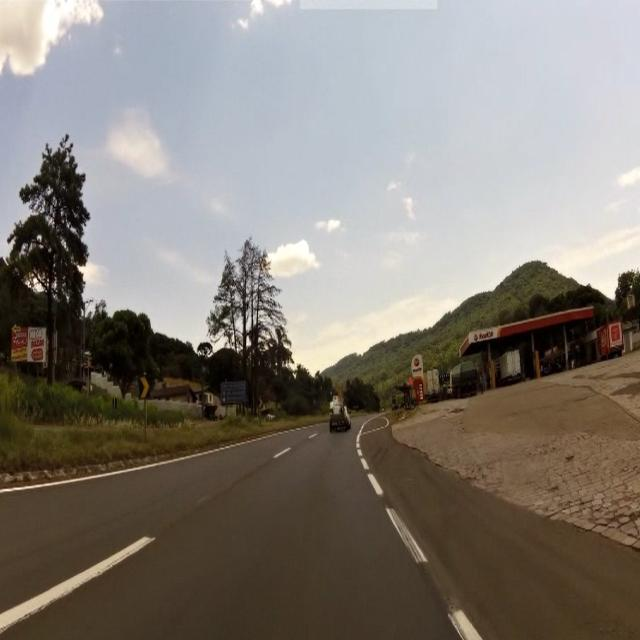Del: (138, 375, 152, 400)
